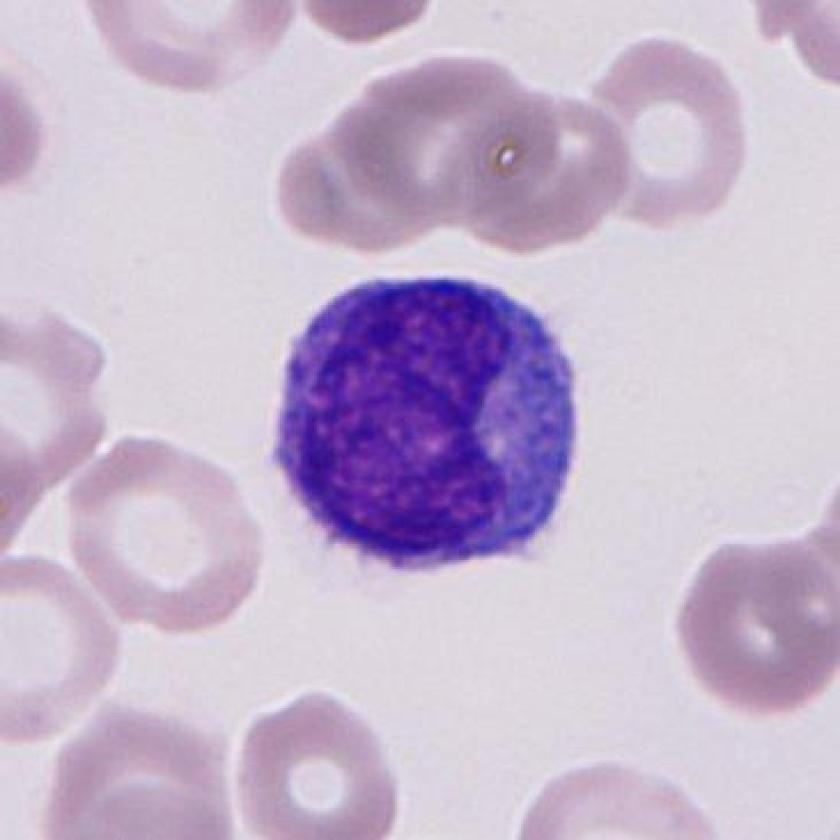monocyte: (249, 252, 611, 598)
